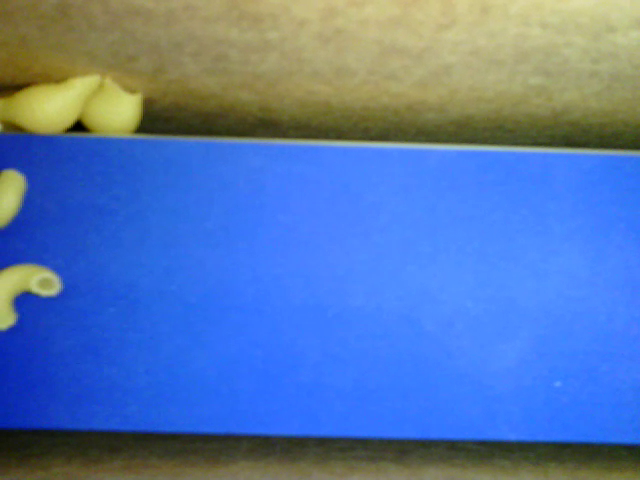elbow: (1, 263, 64, 333), (1, 167, 27, 234)
shell: (1, 68, 102, 140), (77, 74, 146, 141)
